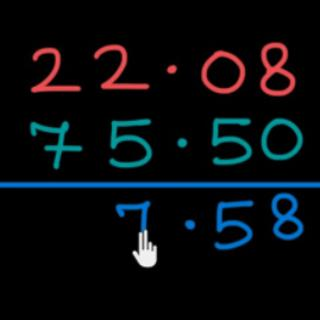.: (170, 128, 193, 155), (179, 213, 201, 234), (163, 57, 178, 79)
0: (255, 112, 306, 165), (201, 43, 246, 96)
2: (24, 41, 84, 98), (91, 40, 151, 97)
5: (105, 112, 155, 171), (207, 112, 256, 171), (211, 194, 257, 251)
7: (22, 115, 87, 172)
8: (254, 39, 297, 98), (264, 192, 305, 242)
